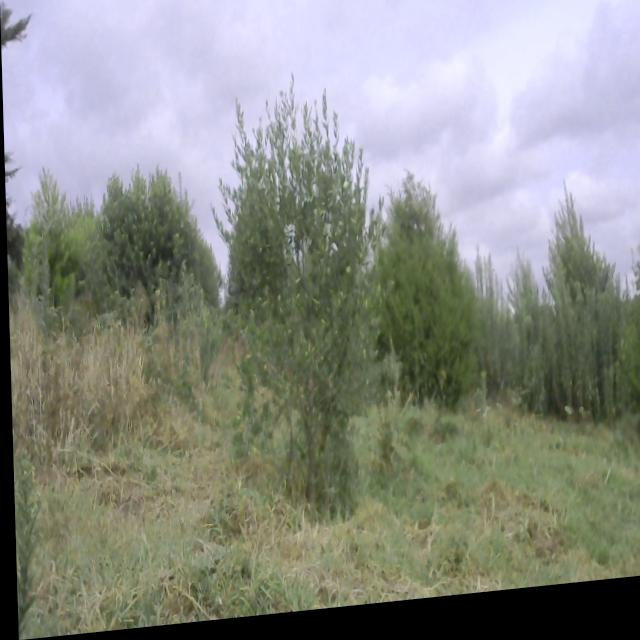Podocarpus falcatus: (22, 167, 88, 330)
Salix alba: (207, 69, 385, 513), (93, 167, 195, 336)
cedrus: (374, 168, 477, 423), (535, 180, 611, 392)
